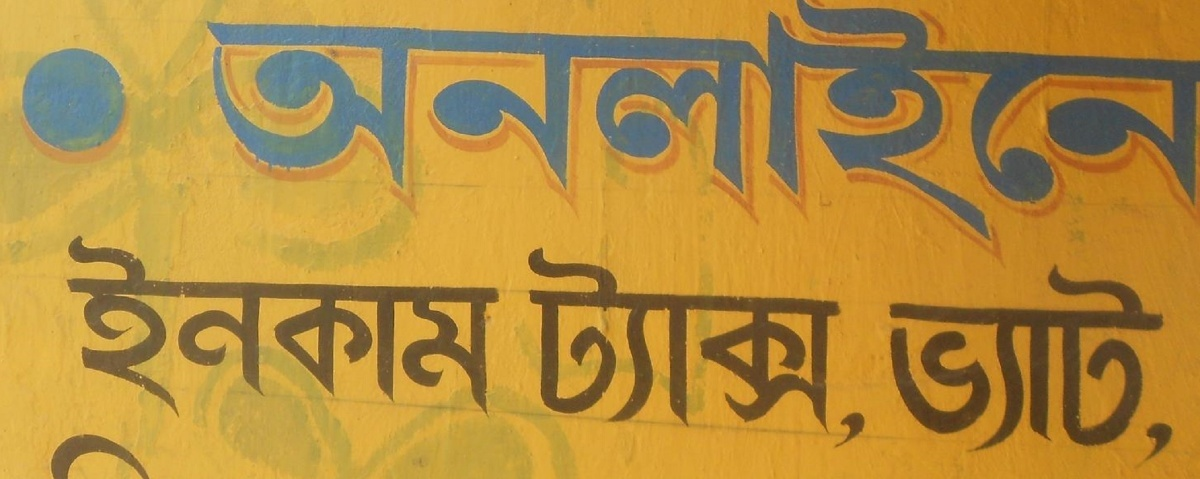text: (209, 1, 224, 274), (225, 1, 240, 274), (241, 1, 256, 274), (257, 1, 272, 274), (273, 1, 288, 274), (289, 1, 304, 274), (305, 1, 320, 274), (321, 1, 336, 274), (337, 1, 352, 274), (353, 1, 368, 274), (369, 1, 384, 274), (385, 1, 400, 274), (401, 1, 416, 274), (417, 1, 432, 274), (433, 1, 448, 274), (449, 1, 464, 274), (465, 1, 480, 274), (481, 1, 496, 274), (497, 1, 512, 274), (513, 1, 528, 274), (529, 1, 544, 274), (545, 1, 560, 274), (561, 1, 576, 274), (577, 1, 592, 274), (593, 1, 608, 274), (609, 1, 624, 274), (625, 1, 640, 274), (641, 1, 656, 274), (657, 1, 672, 274), (673, 1, 688, 274), (689, 1, 704, 274), (705, 1, 720, 274), (721, 1, 736, 274), (737, 1, 752, 274), (753, 1, 768, 274), (769, 1, 784, 274), (785, 1, 800, 274), (801, 1, 816, 274), (817, 1, 832, 274), (833, 1, 848, 274), (849, 1, 864, 274), (865, 1, 880, 274), (881, 1, 896, 274), (897, 1, 912, 274), (913, 1, 928, 274), (929, 1, 944, 274), (945, 1, 960, 274), (961, 1, 976, 274), (977, 1, 992, 274), (993, 1, 1008, 274), (1009, 1, 1024, 274), (1025, 1, 1040, 274), (1041, 1, 1056, 274), (1057, 1, 1072, 274), (1073, 1, 1088, 274), (1089, 1, 1104, 274), (1105, 1, 1120, 274), (1121, 1, 1136, 274), (1137, 1, 1152, 274), (1153, 1, 1168, 274), (1169, 1, 1184, 274), (1185, 1, 1198, 274), (897, 251, 912, 474), (913, 251, 928, 474), (929, 251, 944, 474), (945, 251, 960, 474), (961, 251, 976, 474), (977, 251, 992, 474), (993, 251, 1008, 474), (1009, 251, 1024, 474), (1025, 251, 1040, 474), (1041, 251, 1056, 474), (1057, 251, 1072, 474), (1073, 251, 1088, 474), (1089, 251, 1104, 474), (1105, 251, 1120, 474), (1121, 251, 1136, 474), (1137, 251, 1152, 474), (1153, 251, 1168, 474), (529, 244, 544, 455), (545, 244, 560, 455), (561, 244, 576, 455), (577, 244, 592, 455), (593, 244, 608, 455), (609, 244, 624, 455), (625, 244, 640, 455), (641, 244, 656, 455), (657, 244, 672, 455), (673, 244, 688, 455), (689, 244, 704, 455), (705, 244, 720, 455), (721, 244, 736, 455), (737, 244, 752, 455), (753, 244, 768, 455), (769, 244, 784, 455), (785, 244, 800, 455), (801, 244, 816, 455), (817, 244, 832, 455), (833, 244, 848, 455), (849, 244, 864, 455), (65, 234, 80, 431), (81, 234, 96, 431), (97, 234, 112, 431), (113, 234, 128, 431), (129, 234, 144, 431), (145, 234, 160, 431), (161, 234, 176, 431), (177, 234, 192, 431), (193, 234, 208, 431), (209, 234, 224, 431), (225, 234, 240, 431), (241, 234, 256, 431), (257, 234, 272, 431), (273, 234, 288, 431), (289, 234, 304, 431), (305, 234, 320, 431), (321, 234, 336, 431), (337, 234, 352, 431), (353, 234, 368, 431), (369, 234, 384, 431), (385, 234, 400, 431), (401, 234, 416, 431), (417, 234, 432, 431), (433, 234, 448, 431), (449, 234, 464, 431), (465, 234, 480, 431), (481, 234, 496, 431), (201, 1, 208, 274), (17, 46, 32, 166), (33, 46, 48, 166), (49, 46, 64, 166), (65, 46, 80, 166), (81, 46, 96, 166), (97, 46, 112, 166), (113, 46, 128, 166), (889, 251, 896, 474), (497, 234, 503, 431), (523, 244, 528, 455), (1169, 251, 1173, 474), (865, 244, 869, 455), (65, 432, 80, 479), (81, 432, 96, 479), (97, 432, 112, 479), (113, 432, 128, 479), (129, 432, 144, 479), (53, 432, 64, 479), (129, 46, 132, 166), (145, 432, 152, 479), (15, 46, 16, 166)
